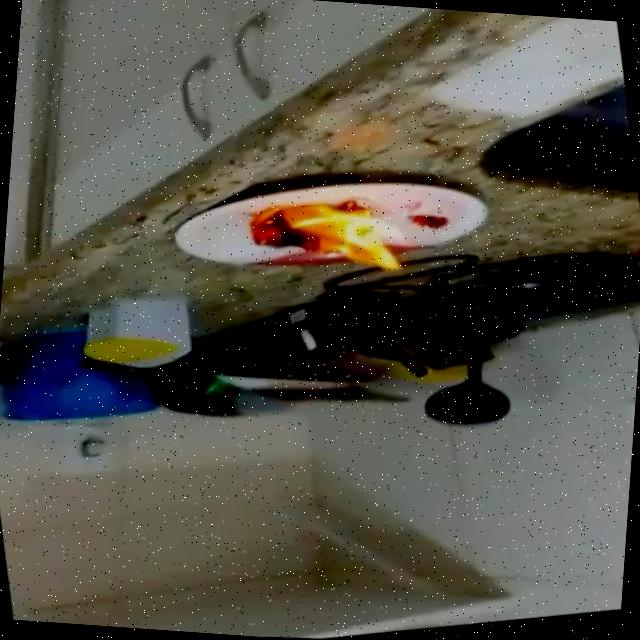fire: (244, 183, 427, 301)
